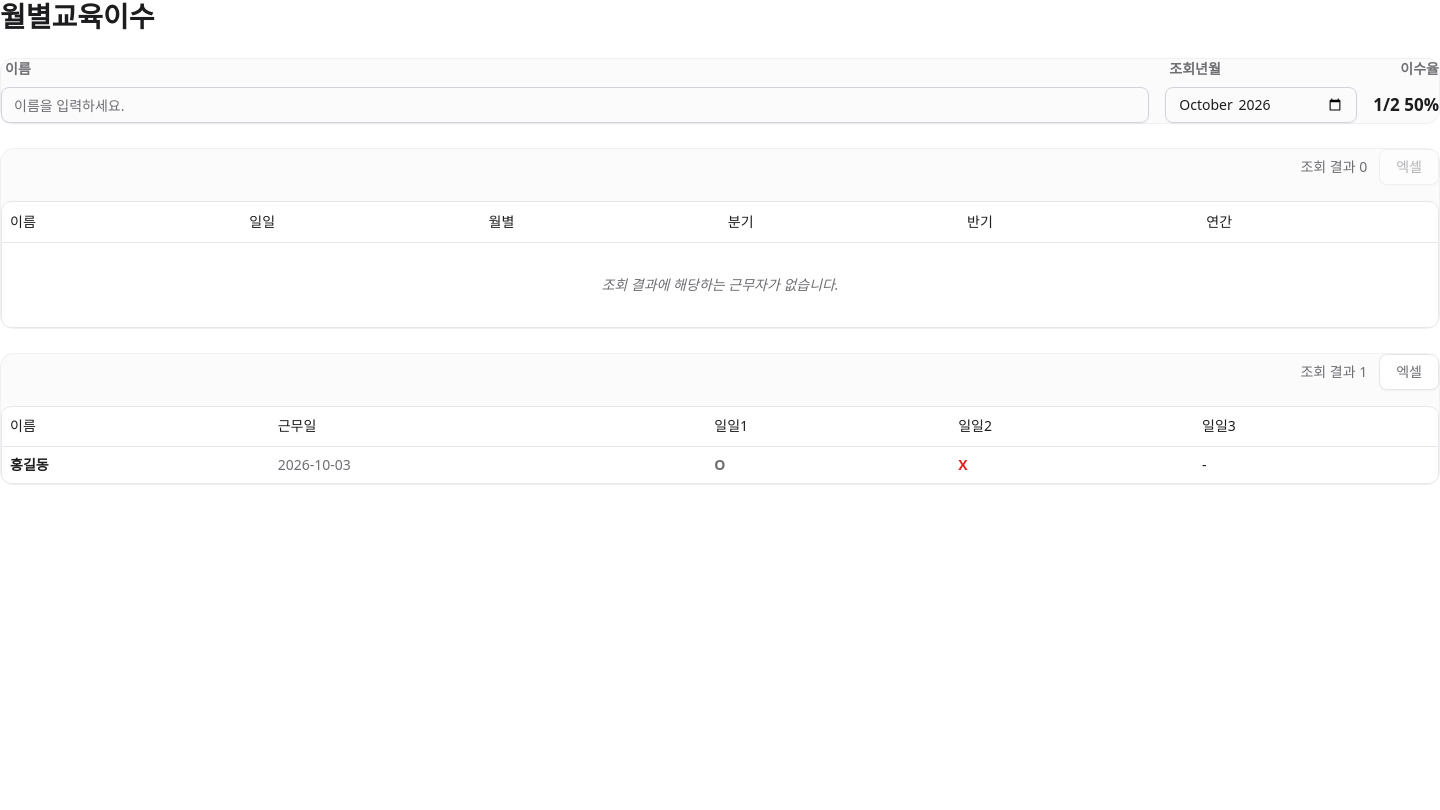
Test: renders daily subject columns and completes only the selected subject on its attendance date
expect the cells read "홍길동", "2026-10-03", "O", "X", "-", in this order: met, box [2, 447, 270, 483]; [270, 447, 706, 483]; [706, 447, 950, 483]; [950, 447, 1194, 483]; [1194, 447, 1438, 483]
expect the column heading "일일1" is shown: met, box [706, 407, 950, 447]
Click the button "X" at x=963, y=465, box [958, 455, 968, 475]
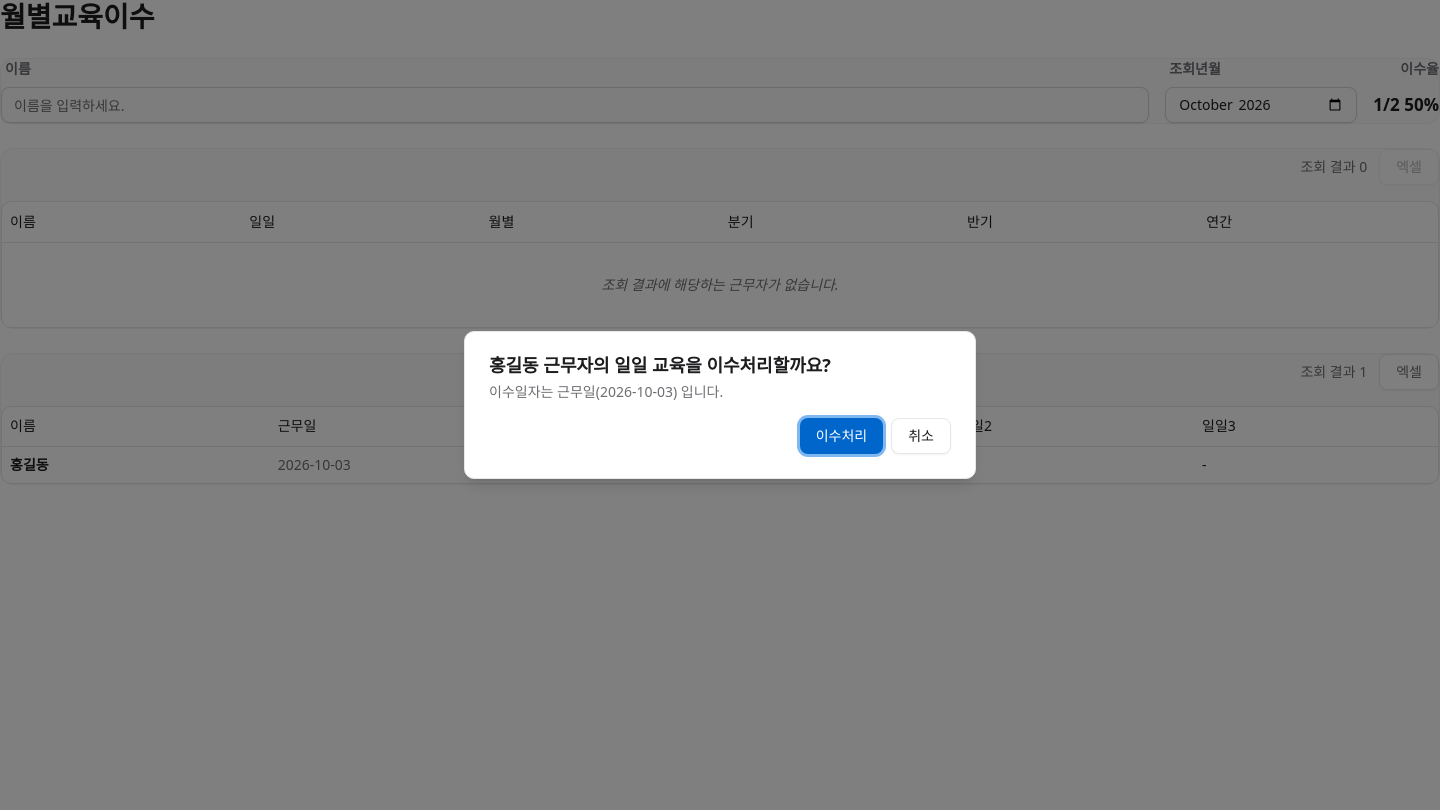
Click the button "이수처리" at x=841, y=436, box [800, 418, 883, 454]
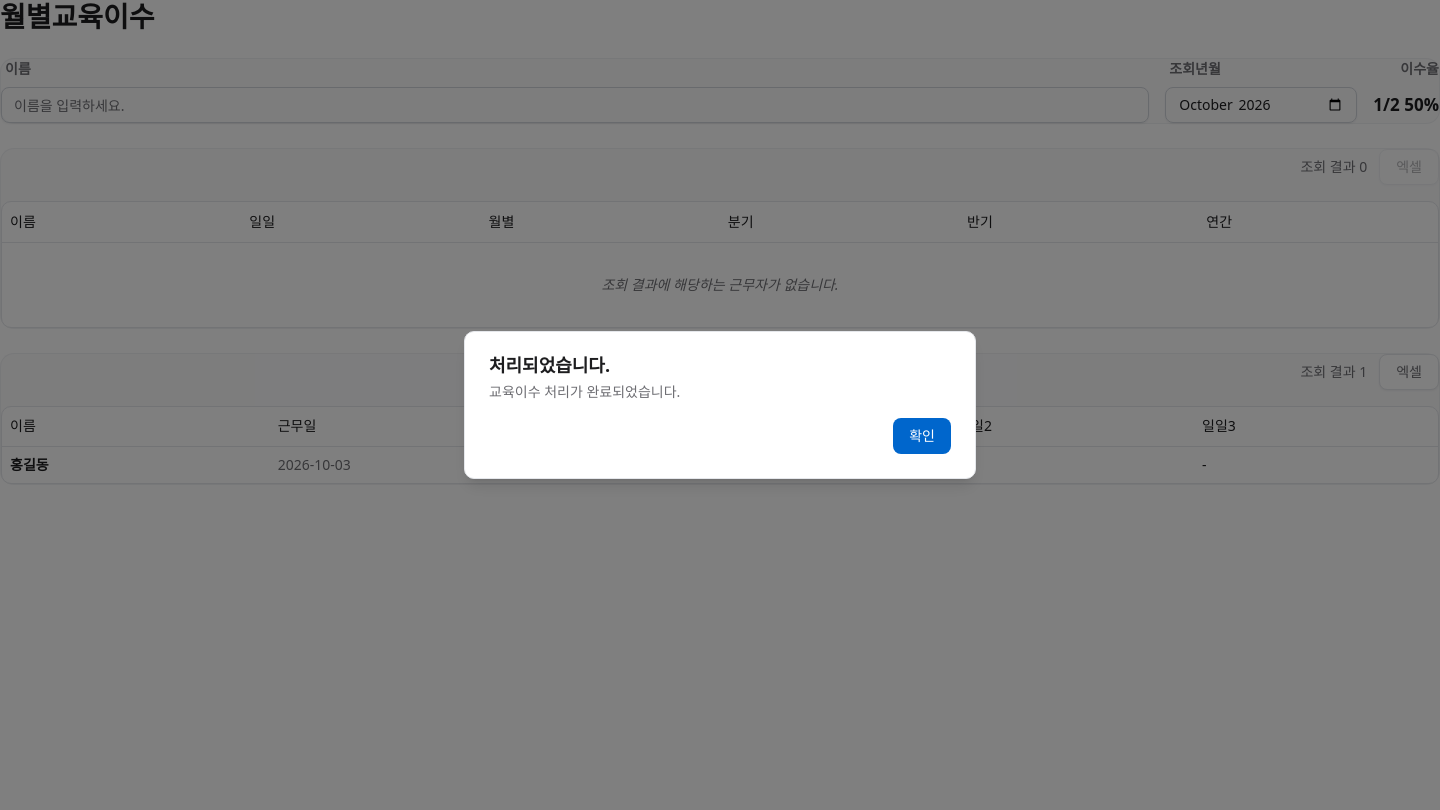
expect the heading "처리되었습니다." is shown: met, box [489, 353, 610, 377]
Click the button "확인" at x=922, y=436, box [893, 418, 951, 454]
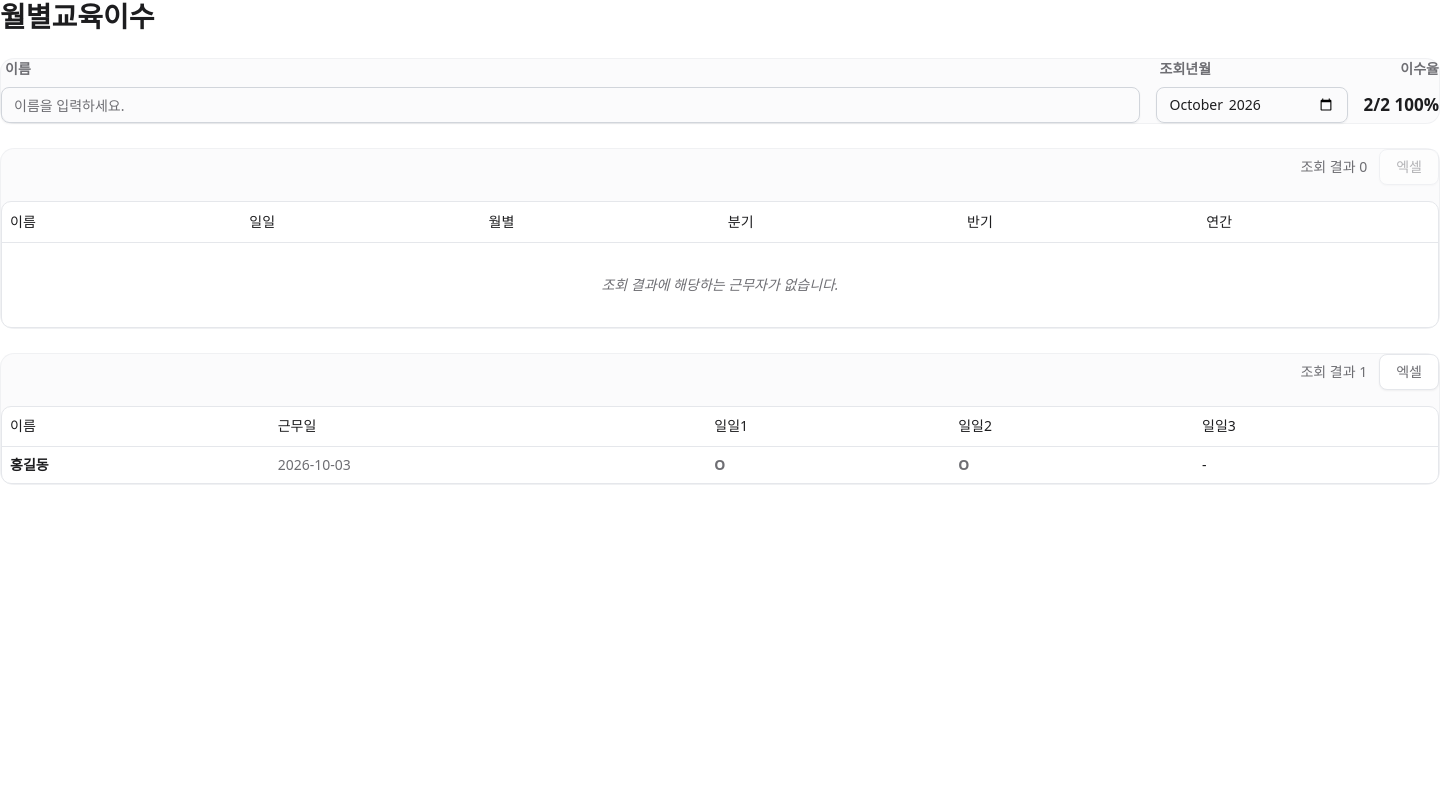
expect the cells read "홍길동", "2026-10-03", "O", "O", "-", in this order: met, box [2, 447, 270, 483]; [270, 447, 706, 483]; [706, 447, 950, 483]; [950, 447, 1194, 483]; [1194, 447, 1438, 483]
